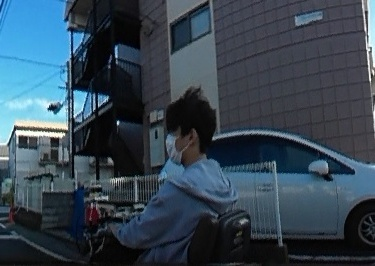person: (124, 93, 230, 266)
